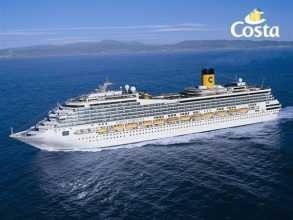youlun: (10, 56, 279, 153)
